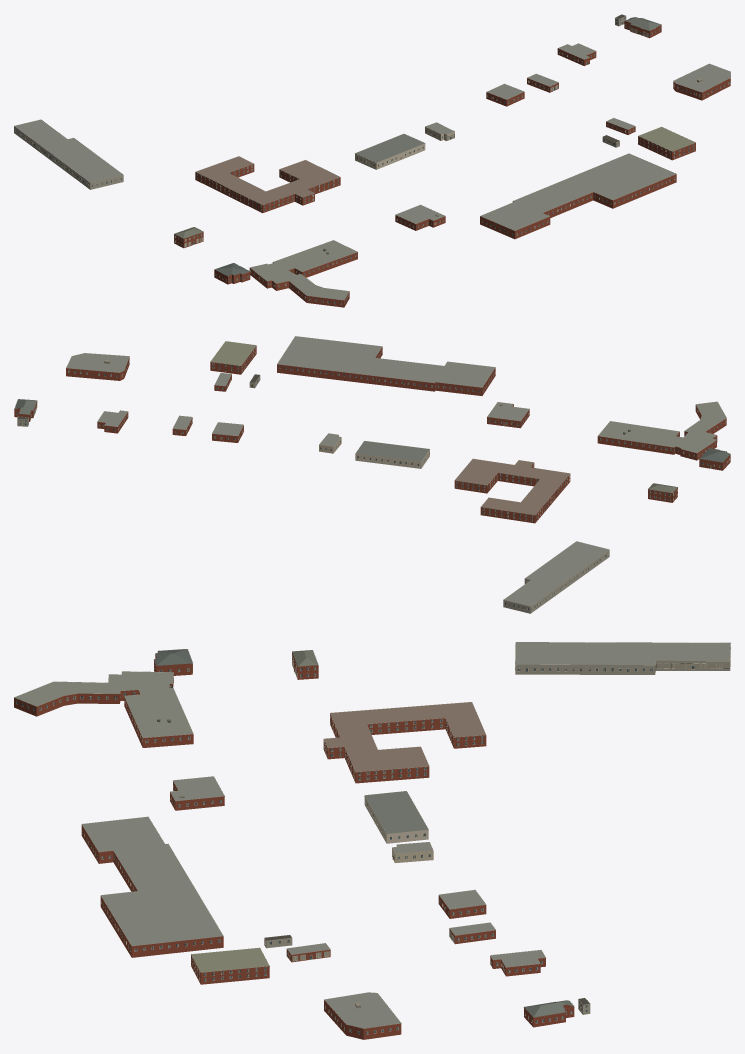
The picture shows the model from 3 angles, top to bottom: view 1: azimuth 30°, elevation 25°; view 2: azimuth 150°, elevation 25°; view 3: azimuth 270°, elevation 25°; orthographic projection. The views are drawn at different scales.
Visible parts, largest first — view 1: -8_0_269008172_15, -8_0_270268420_24, -8_0_269009156_18; view 2: -8_0_269008172_15, -8_0_270268420_24, -8_0_269009156_18; view 3: -8_0_269008172_15, -8_0_270268420_24, -8_0_269009156_18.
Part boxes in pixels (x1,y1,x2,y2): -8_0_269008172_15: (14, 14, 730, 307); -8_0_270268420_24: (14, 16, 626, 189); -8_0_269009156_18: (323, 22, 623, 190); -8_0_269008172_15: (14, 336, 730, 610); -8_0_270268420_24: (17, 375, 609, 613); -8_0_269009156_18: (92, 368, 711, 468); -8_0_269008172_15: (14, 642, 730, 1039); -8_0_270268420_24: (264, 661, 730, 1014); -8_0_269009156_18: (349, 766, 580, 1011).
Bounding box in the file's own units: 534 × 23.37 × 406.
